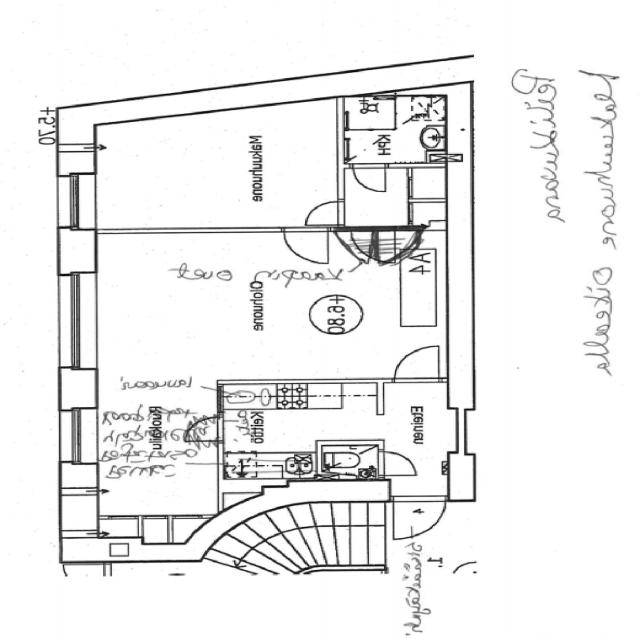door: (392, 498, 448, 538), (280, 226, 332, 267), (391, 344, 444, 382), (300, 198, 346, 226), (378, 449, 421, 478), (350, 164, 390, 194)
window: (58, 271, 92, 375)
zone: (82, 232, 437, 383), (64, 108, 344, 230), (61, 452, 222, 549), (221, 382, 383, 476), (226, 488, 388, 572), (343, 95, 450, 163), (347, 164, 441, 227), (223, 452, 306, 484), (320, 444, 381, 480)
